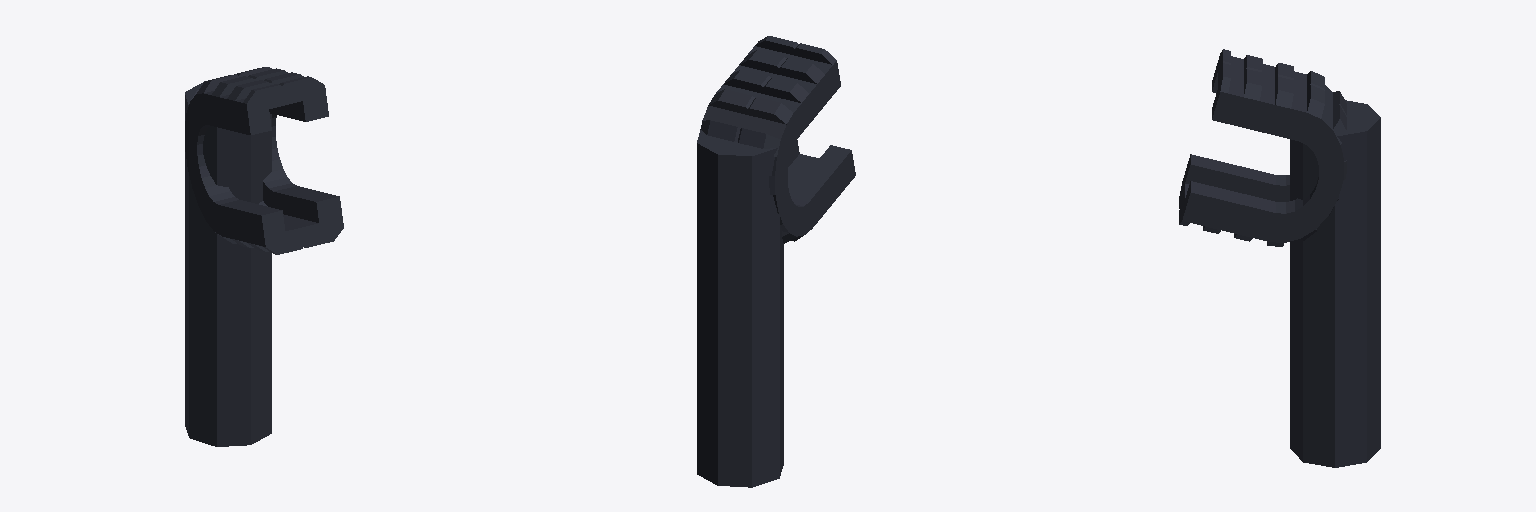
File: WrenchIHate.obj
3 views of the same model, side by side, from view 1: azimuth 30°, elevation 25°; view 2: azimuth 150°, elevation 25°; view 3: azimuth 270°, elevation 25° (orthographic).
Visible parts, largest first — view 1: mergedBlocks; view 2: mergedBlocks; view 3: mergedBlocks.
Boxes of the visible parts, x1=… form: mergedBlocks: x1=185, y1=67, x2=343, y2=446; mergedBlocks: x1=697, y1=36, x2=855, y2=487; mergedBlocks: x1=1179, y1=49, x2=1380, y2=467.
Bounding box in the file's own units: 0.2 × 0.9406 × 0.4448.